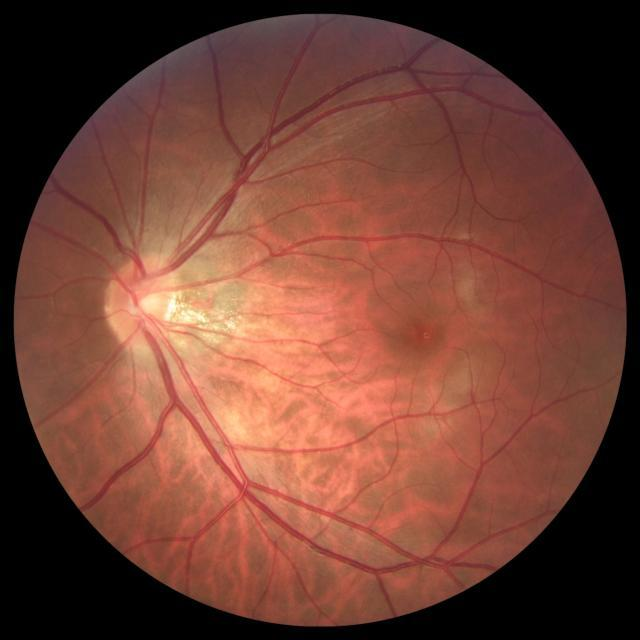OC: (124, 279, 158, 316)
OD: (105, 253, 177, 348)
